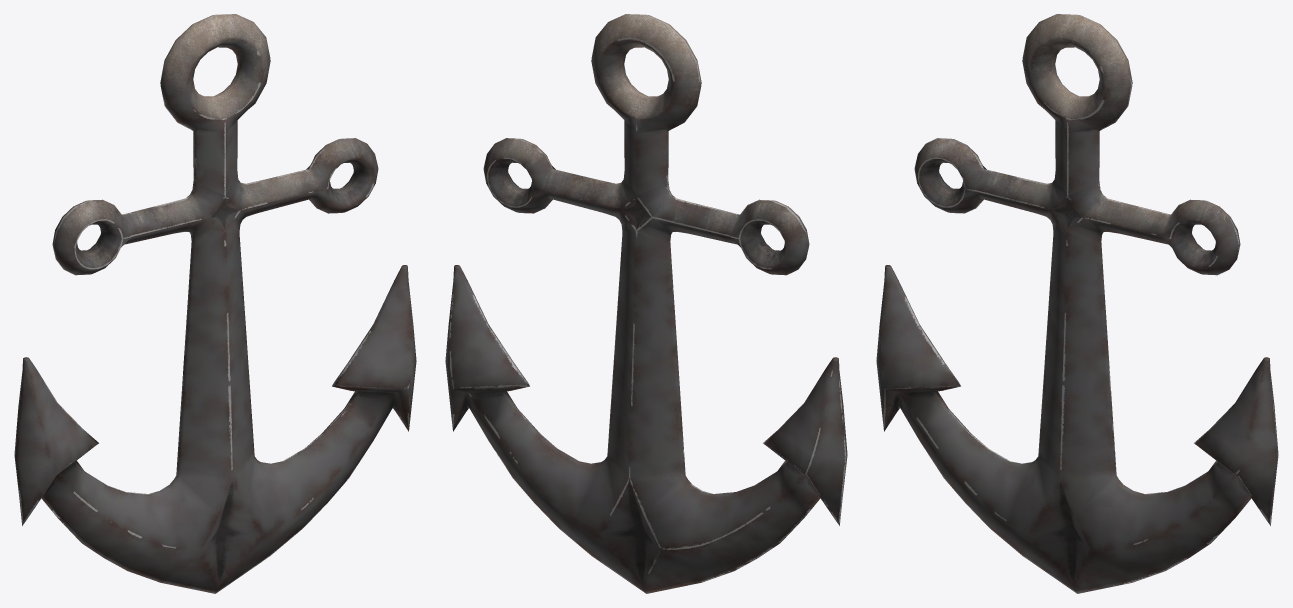
The picture shows the model from 3 angles, left to right: view 1: azimuth 30°, elevation 25°; view 2: azimuth 150°, elevation 25°; view 3: azimuth 330°, elevation 25°; orthographic projection.
Parts seen in each view (by area): view 1: defaultMaterial; view 2: defaultMaterial; view 3: defaultMaterial.
Boxes of the visible parts, x1,y1,x2,y2 form: defaultMaterial: (14,14,416,593); defaultMaterial: (445,14,847,593); defaultMaterial: (876,14,1278,593).
Bounding box in the file's own units: 1.45 × 2 × 0.2145.
Materials: 1 (1 with a texture image).
